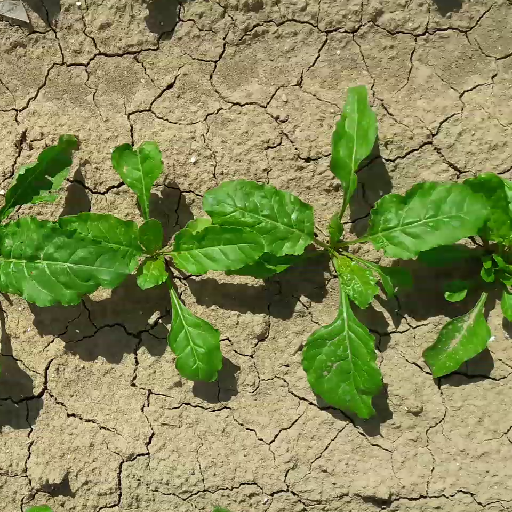sugarbeet: (194, 80, 487, 416), (47, 136, 276, 385), (406, 173, 510, 380)
